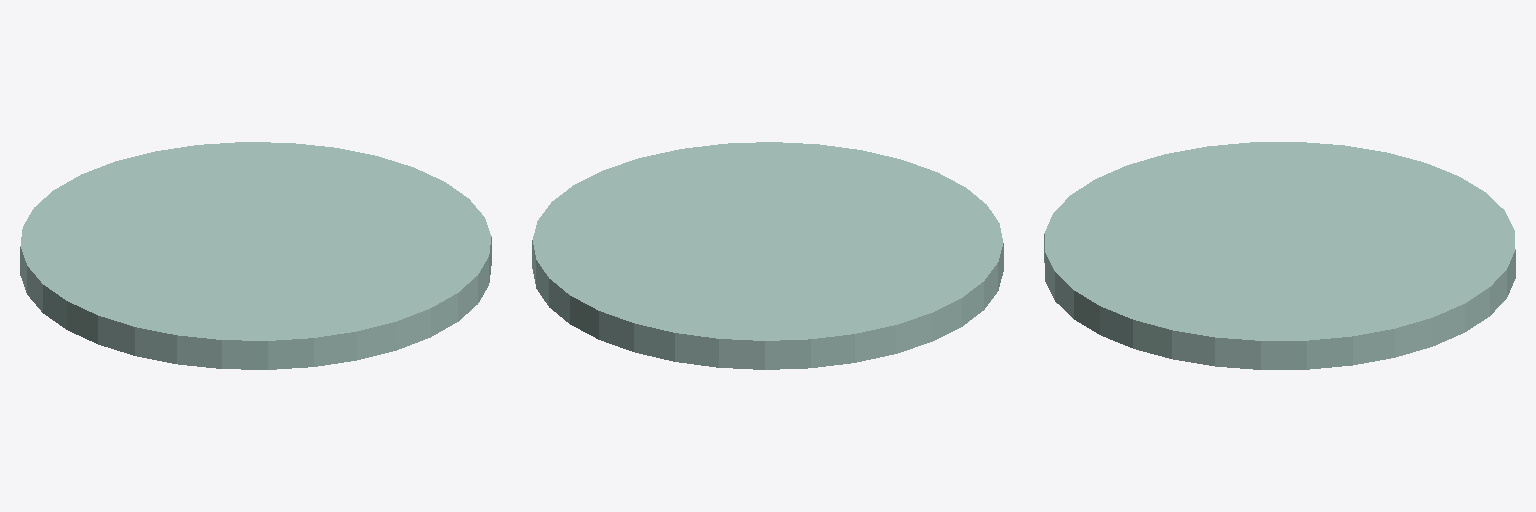
URDF robot description (Interference):
<?xml version="1.0"?>
<robot name="Interference">
  <link name="baseLink">
    <inertial>
      <origin xyz="0.0 0.0 0.0" rpy="0.0 0.0 0.0"/>
      <inertia ixx="0.0" ixy="0.0" ixz="0.0" iyy="0.0" iyz="0.0" izz="0.0"/>
      <mass value="0"/>
    </inertial>
    <visual>
      <origin xyz="0.0 0.0 0.0" rpy="0.0 0.0 -1.0620397630354987"/>
      <geometry>
        <cylinder radius="0.07361482244849156" length="0.01"/>
      </geometry>
      <material name="color">
        <color rgba="0.7066323289086676 0.8188971097156672 0.7921170403951954 1.0"/>
      </material>
    </visual>
  </link>
</robot>

--- Facts derived from the render (not from the file) ---
3 views of the same robot in one strip: view 1: azimuth 30°, elevation 25°; view 2: azimuth 150°, elevation 25°; view 3: azimuth 270°, elevation 25° (orthographic).
Model Interference with 1 links and 0 joints (none), rooted at baseLink, posed all joints at 0.
Links seen in each view (by area): view 1: baseLink; view 2: baseLink; view 3: baseLink.
Boxes of the visible links, x1=… form: baseLink: x1=20, y1=142, x2=491, y2=369; baseLink: x1=532, y1=142, x2=1003, y2=369; baseLink: x1=1044, y1=142, x2=1515, y2=369.
Bounding box of the posed robot: 0.1468 × 0.1468 × 0.01 m (x, y, z).
Geometry: primitives only (box / cylinder / sphere), no mesh files.